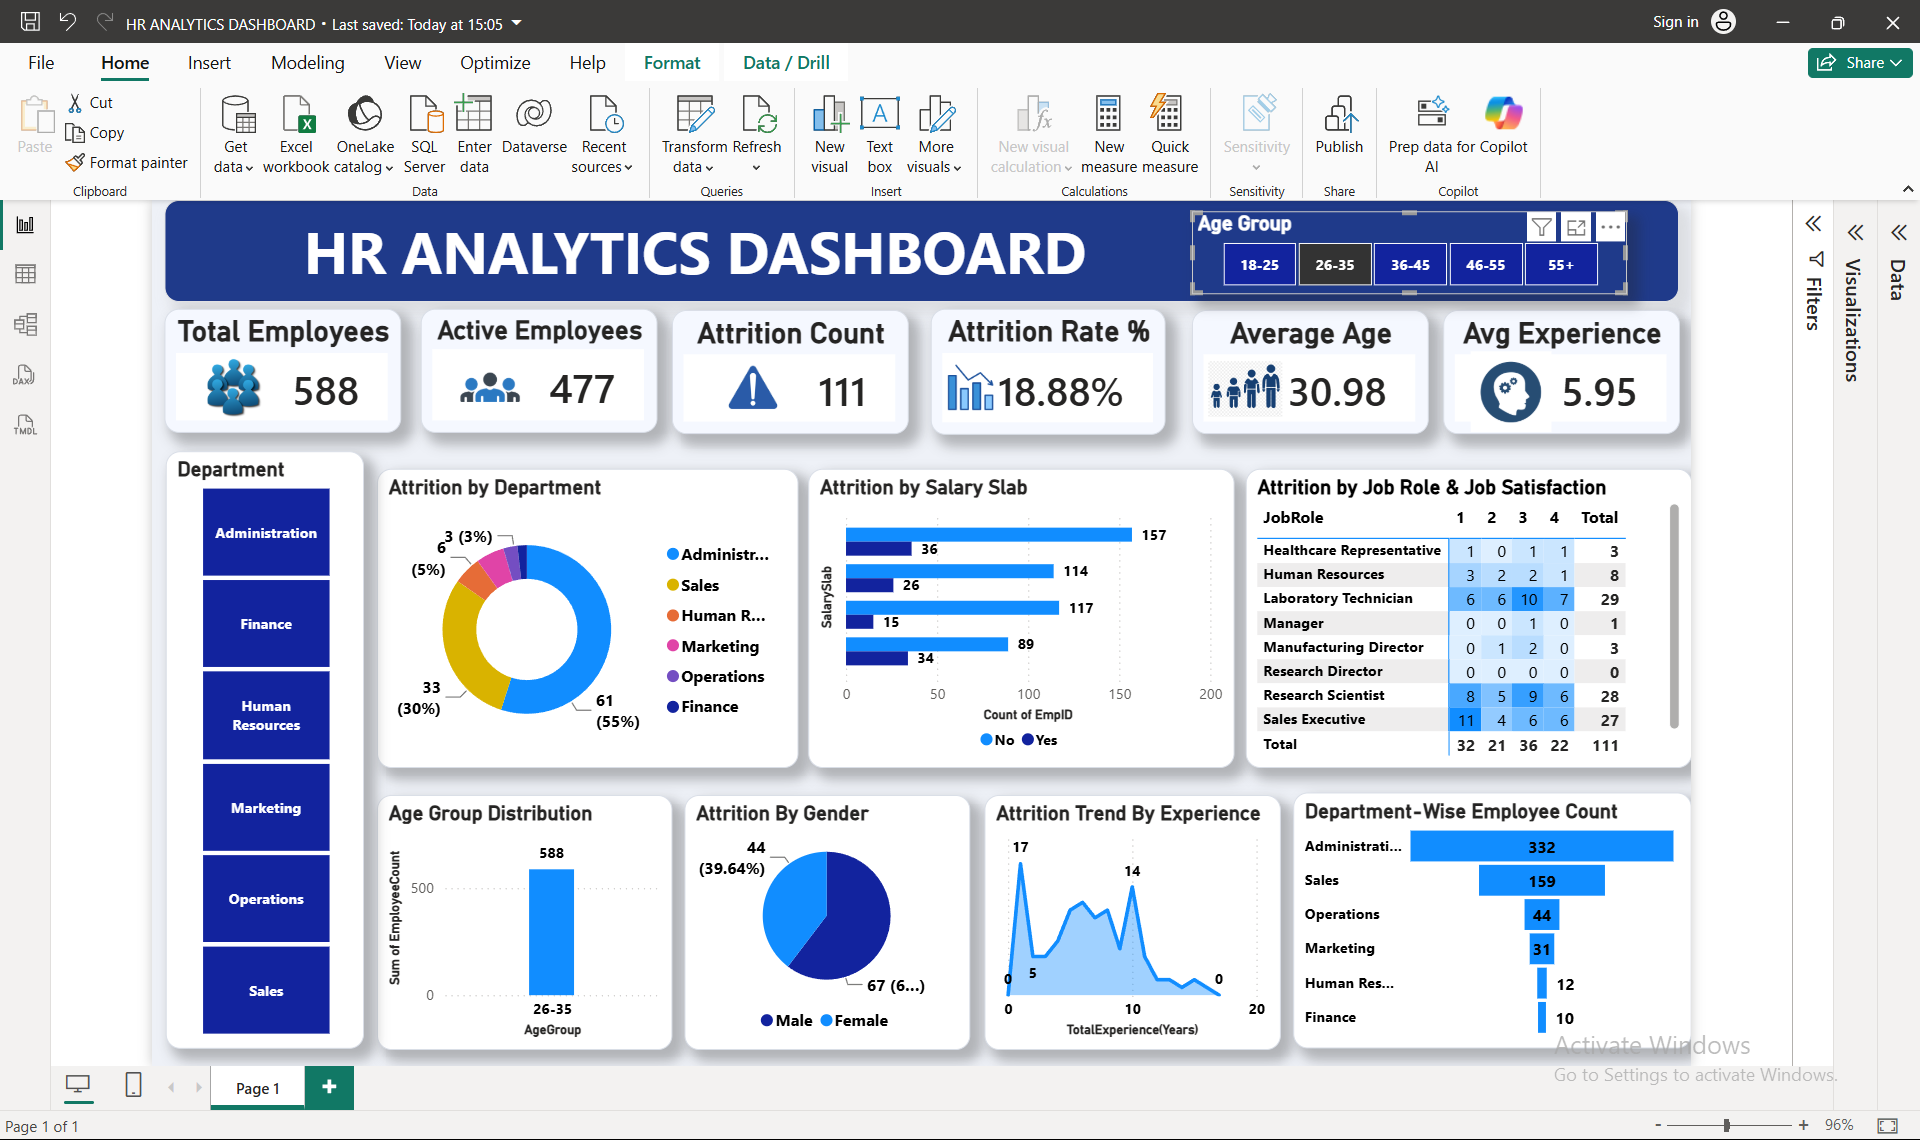

What the dashboard file says about the page in this screenshot:
{"tool":"powerbi","page":{"name":"Page 1","canvas":[1280,720],"ordinal":0},"visuals":[{"type":"textbox","box":[10,0,1259,85],"z":0},{"type":"cardVisual","title":"Total Employees","fields":{"Data":["CountNonNull(HR Analytics Project.EmpID)"]},"box":[10.5,90.7,196.5,103.5],"z":1000},{"type":"cardVisual","title":"Active Employees","fields":{"Data":["CountNonNull(HR Analytics Project.EmployeeNumber)"]},"box":[223.3,90.7,196.5,103.5],"z":2000},{"type":"cardVisual","title":"Average Age","fields":{"Data":["Avg(HR Analytics Project.Age)"]},"box":[865.1,91.9,196.5,103.5],"z":3000},{"type":"cardVisual","title":"Attrition Count","fields":{"Data":["Sum(HR Analytics Project.AttritionCount)"]},"box":[432.6,91.9,196.5,103.5],"z":4000},{"type":"cardVisual","title":"Avg Experience","fields":{"Data":["Avg(HR Analytics Project.YearsatCompany)"]},"box":[1073.3,91.9,196.5,103.5],"z":5000},{"type":"cardVisual","title":"Attrition Rate %","fields":{"Data":["HR Analytics Project.Attrition Rate %"]},"box":[647.7,90.7,195.3,104.7],"z":6000},{"type":"image","box":[21.8,129.9,54,49.9],"z":7000},{"type":"image","box":[232.8,118.5,59.2,74.8],"z":8000},{"type":"image","box":[473.3,125.6,53.5,60.5],"z":9000},{"type":"image","box":[660.5,132.6,39.5,45.3],"z":10000},{"type":"image","box":[877.9,119.8,61.6,75.6],"z":11000},{"type":"image","box":[1089.5,125.6,81.4,67.4],"z":12000},{"type":"donutChart","title":"Attrition by Department","fields":{"Category":["HR Analytics Project.Department"],"Y":["Sum(HR Analytics Project.AttritionCount)"]},"box":[187.2,223.3,350,248.8],"z":13000},{"type":"clusteredBarChart","title":"Attrition by Salary Slab","fields":{"Category":["HR Analytics Project.SalarySlab"],"Y":["CountNonNull(HR Analytics Project.EmpID)"],"Series":["HR Analytics Project.Attrition"]},"box":[545.4,223.3,354.7,248.8],"z":14000},{"type":"pivotTable","title":"Attrition by Job Role & Job Satisfaction","fields":{"Rows":["HR Analytics Project.JobRole"],"Values":["Sum(HR Analytics Project.AttritionCount)"],"Columns":["HR Analytics Project.JobSatisfaction"]},"box":[909.3,223.3,370.9,248.8],"z":15000},{"type":"columnChart","title":"Age Group Distribution","fields":{"Category":["HR Analytics Project.AgeGroup"],"Y":["Sum(HR Analytics Project.EmployeeCount)"]},"box":[187.2,494.2,245.3,211.6],"z":16000},{"type":"pieChart","title":"Attrition By Gender","fields":{"Category":["HR Analytics Project.Gender"],"Y":["Sum(HR Analytics Project.AttritionCount)"]},"box":[443,494.2,237.2,211.6],"z":17000},{"type":"areaChart","title":"Attrition Trend By Experience","fields":{"Category":["HR Analytics Project.TotalExperience(Years)"],"Y2":["Sum(HR Analytics Project.AttritionCount)"]},"box":[691.9,494.2,246.5,211.6],"z":18000},{"type":"funnel","title":"Department-Wise Employee Count","fields":{"Category":["HR Analytics Project.Department"],"Y":["CountNonNull(HR Analytics Project.EmpID)"]},"box":[948.8,492.6,331.5,213],"z":19000},{"type":"slicer","title":"Department","fields":{"Values":["HR Analytics Project.Department"]},"box":[11.6,209.3,165.1,496.5],"z":20000},{"type":"slicer","title":"Age Group","fields":{"Values":["HR Analytics Project.AgeGroup"]},"box":[865.1,9.3,361.6,68.6],"z":21000}]}

Visuals, with their boxes on the page's 1280x720 design canvas (x1, y1, x2, y2). These are canvas units, not pixel positions in the 1920x1140 screenshot, which may show the page scaled, cropped or inside an application window:
textbox: (10,0,1269,85)
"Total Employees" cardVisual: (10,91,207,194)
"Active Employees" cardVisual: (223,91,420,194)
"Average Age" cardVisual: (865,92,1062,195)
"Attrition Count" cardVisual: (433,92,629,195)
"Avg Experience" cardVisual: (1073,92,1270,195)
"Attrition Rate %" cardVisual: (648,91,843,195)
image: (22,130,76,180)
image: (233,118,292,193)
image: (473,126,527,186)
image: (660,133,700,178)
image: (878,120,940,195)
image: (1090,126,1171,193)
"Attrition by Department" donutChart: (187,223,537,472)
"Attrition by Salary Slab" clusteredBarChart: (545,223,900,472)
"Attrition by Job Role & Job Satisfaction" pivotTable: (909,223,1280,472)
"Age Group Distribution" columnChart: (187,494,432,706)
"Attrition By Gender" pieChart: (443,494,680,706)
"Attrition Trend By Experience" areaChart: (692,494,938,706)
"Department-Wise Employee Count" funnel: (949,493,1280,706)
"Department" slicer: (12,209,177,706)
"Age Group" slicer: (865,9,1227,78)
